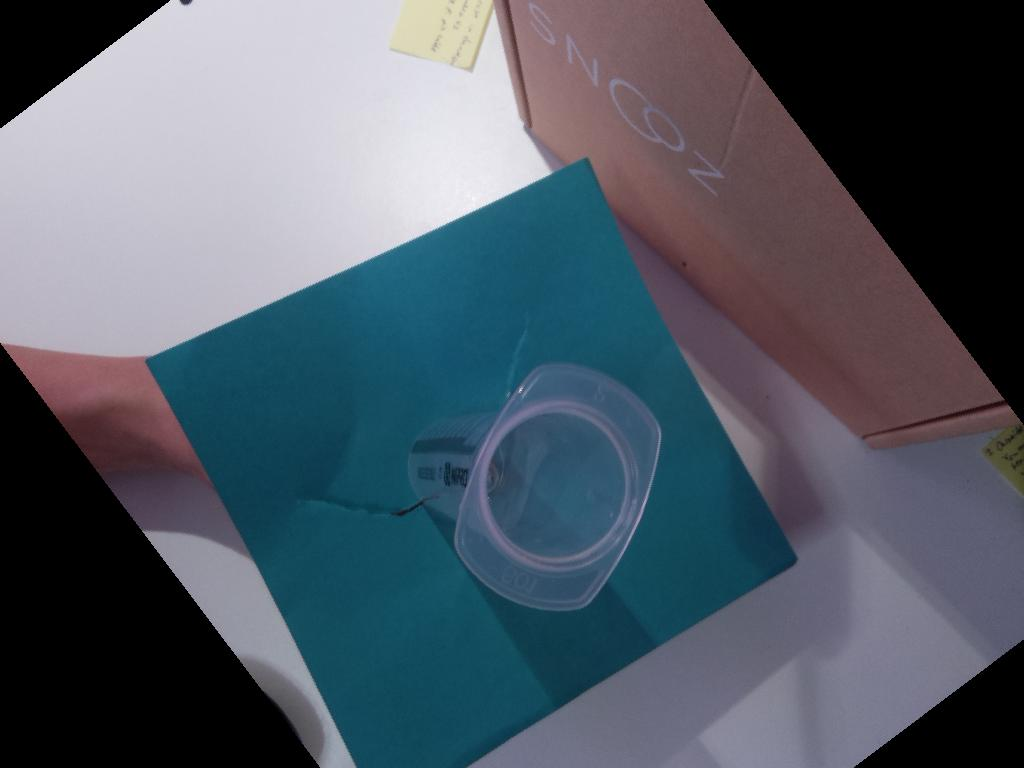clean: (453, 360, 663, 611)
